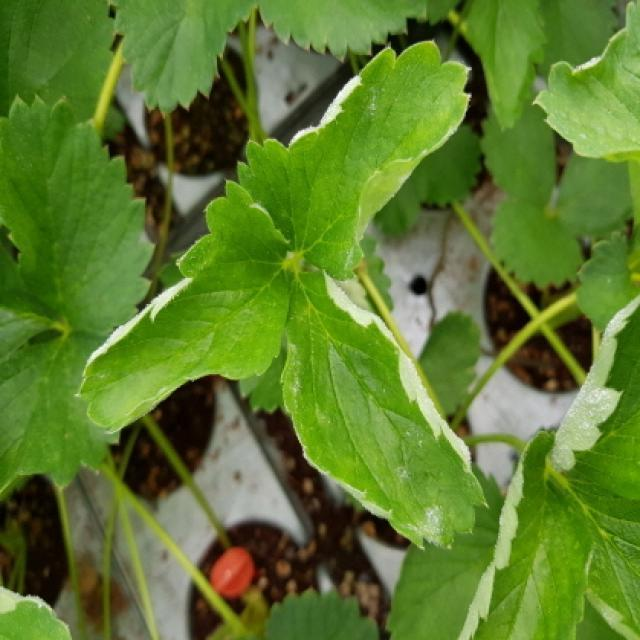powdery_mildew_leaf: (280, 257, 488, 554), (234, 38, 470, 282), (73, 178, 294, 431), (458, 428, 596, 638), (551, 289, 638, 524), (533, 0, 638, 164)
